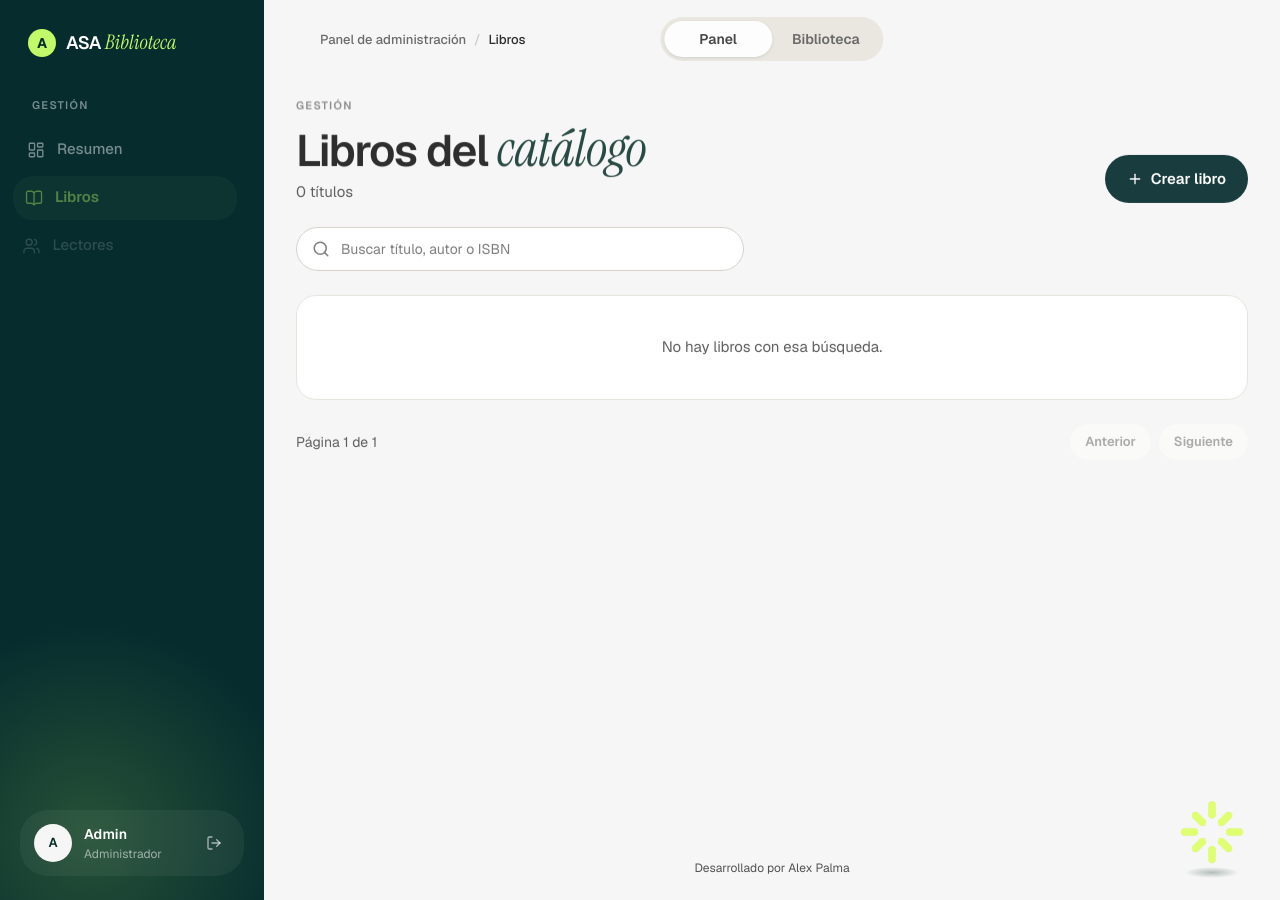
Test: formularios de admin: errores generales › libro: un 500 se muestra como alerta arriba del formulario
Click the button "Crear libro": (1176, 179) x1=1105 y1=155 x2=1248 y2=203
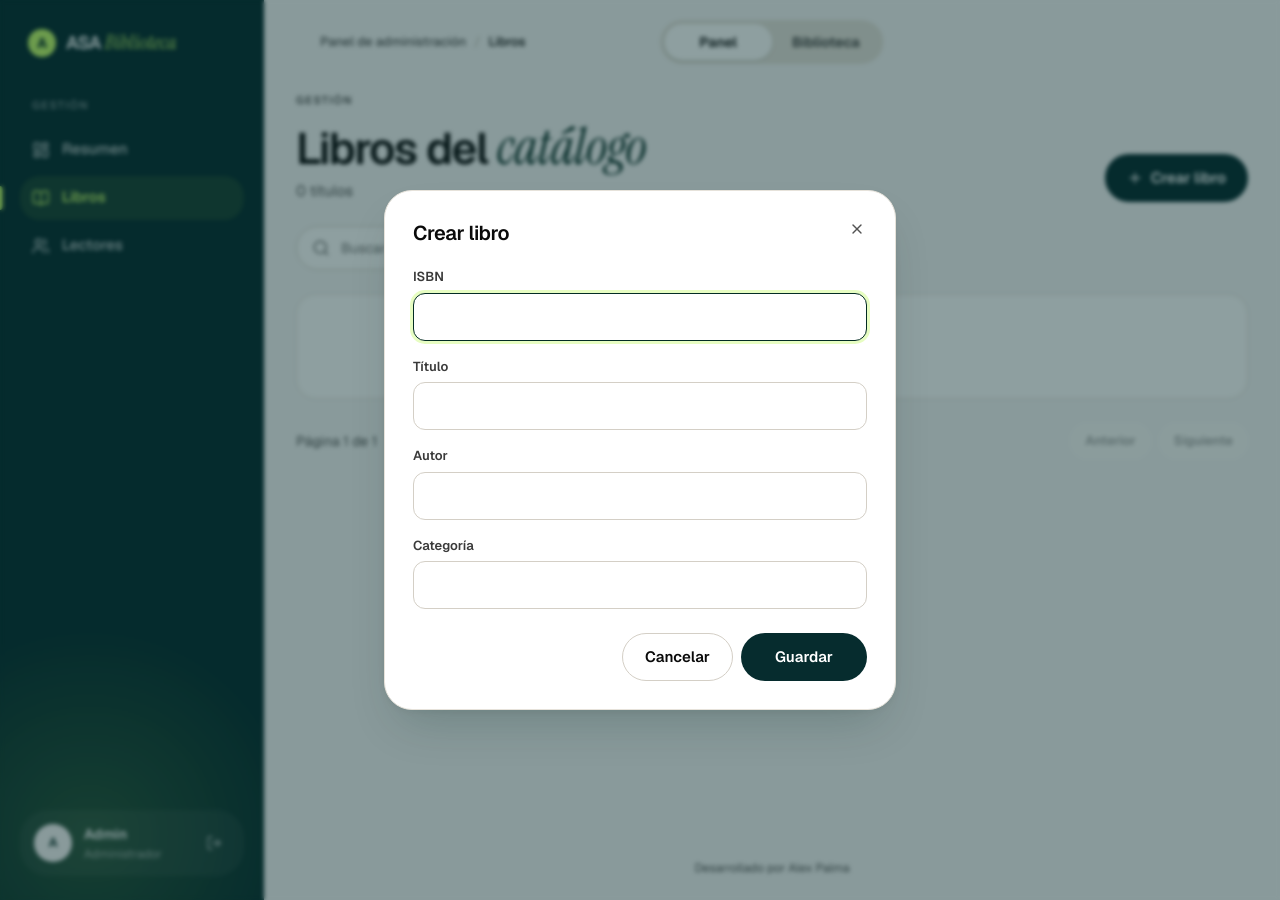
In the field labelled "ISBN": (640, 316) x1=413 y1=292 x2=867 y2=340, type "9780306406157"
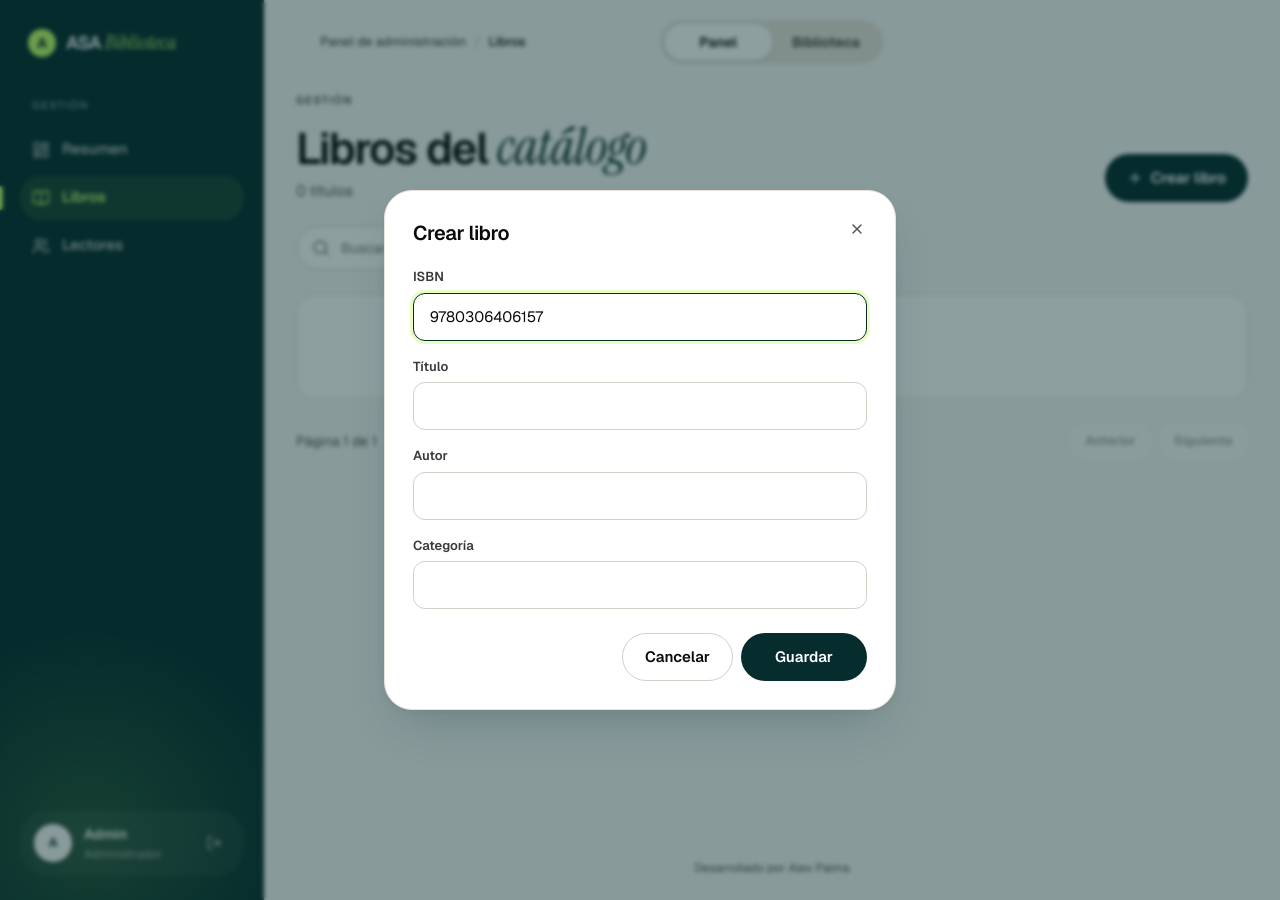
In the field labelled "Título": (640, 406) x1=413 y1=382 x2=867 y2=430, type "Rayuela"
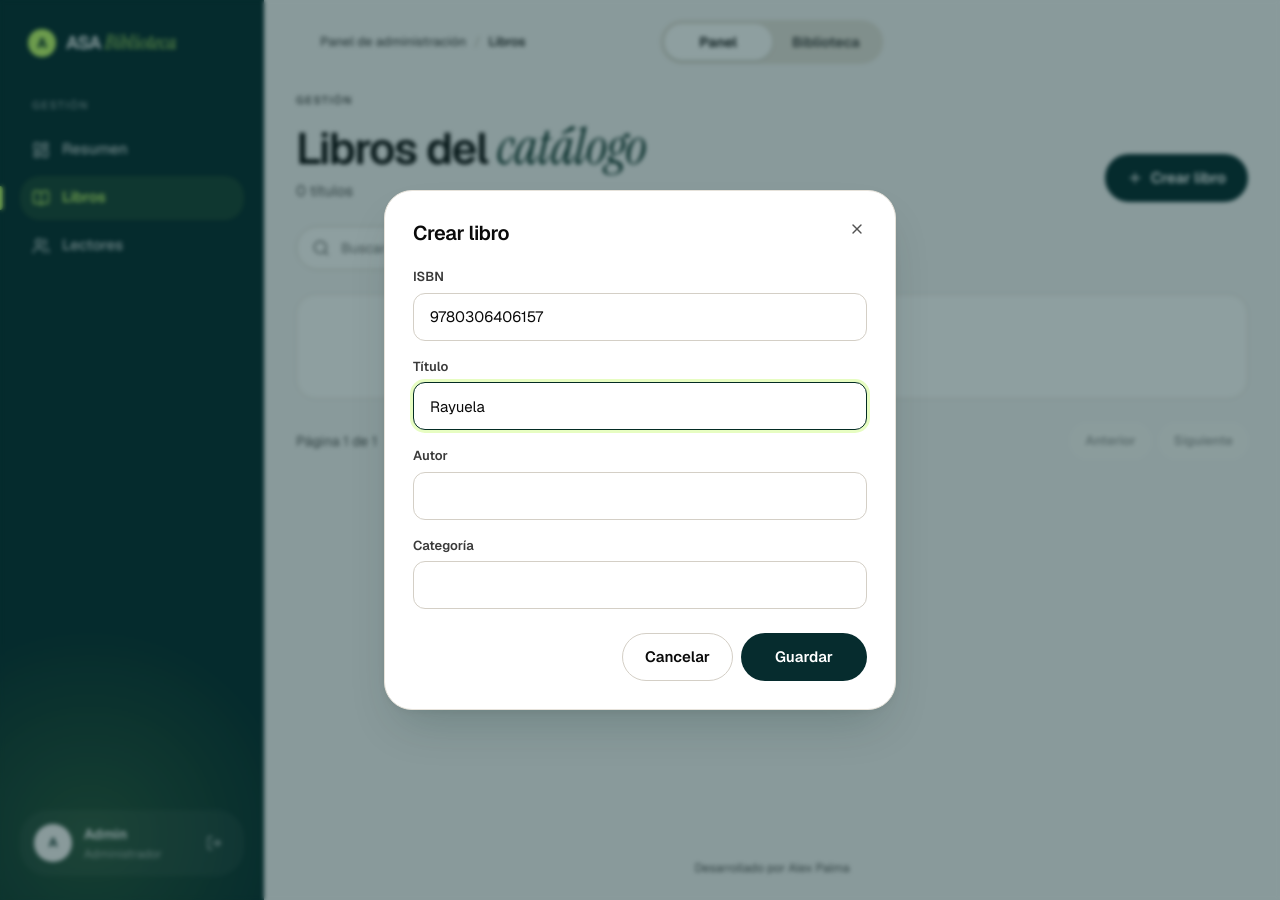
In the field labelled "Autor": (640, 496) x1=413 y1=472 x2=867 y2=520, type "Julio Cortázar"
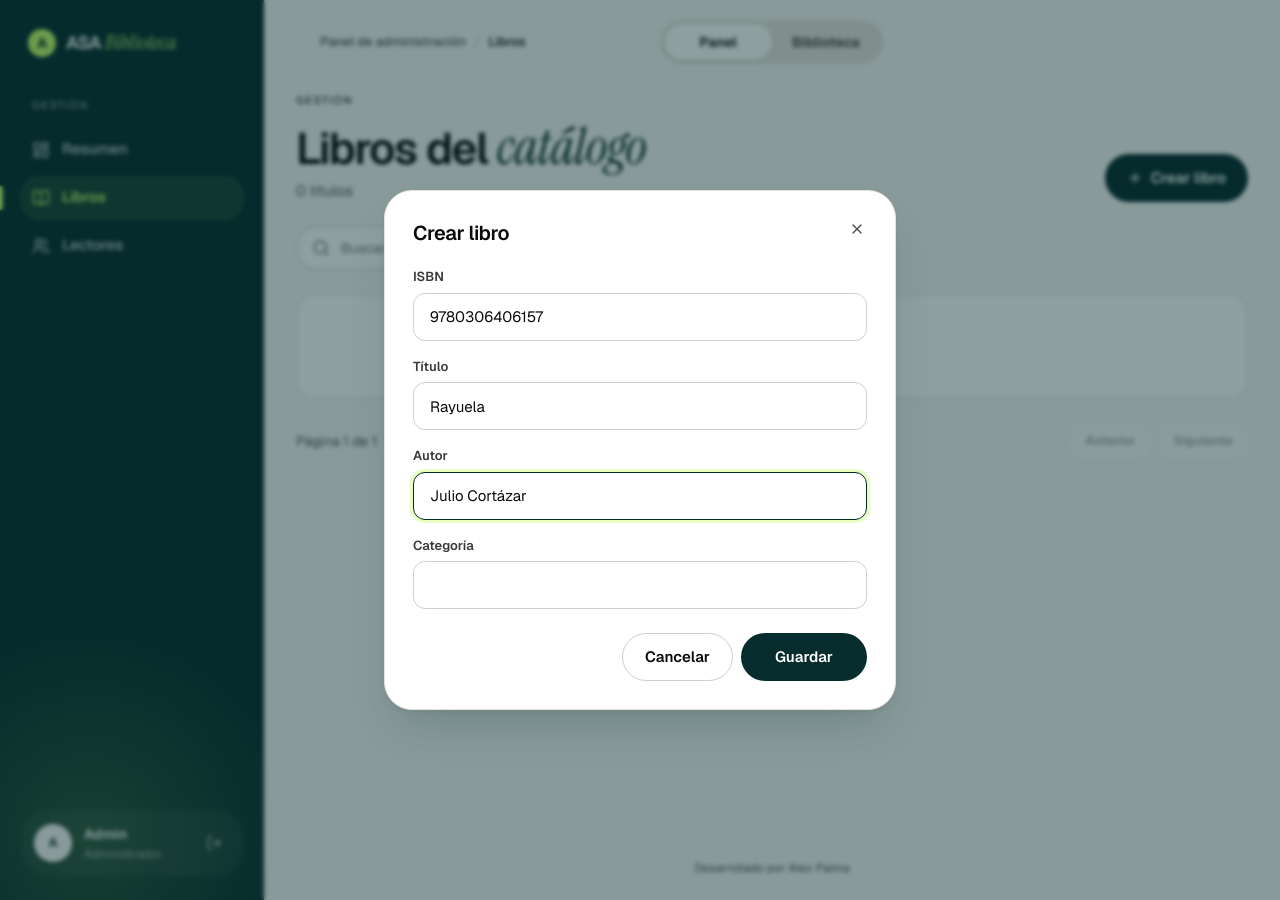
In the field labelled "Categoría": (640, 585) x1=413 y1=561 x2=867 y2=609, type "Novela"
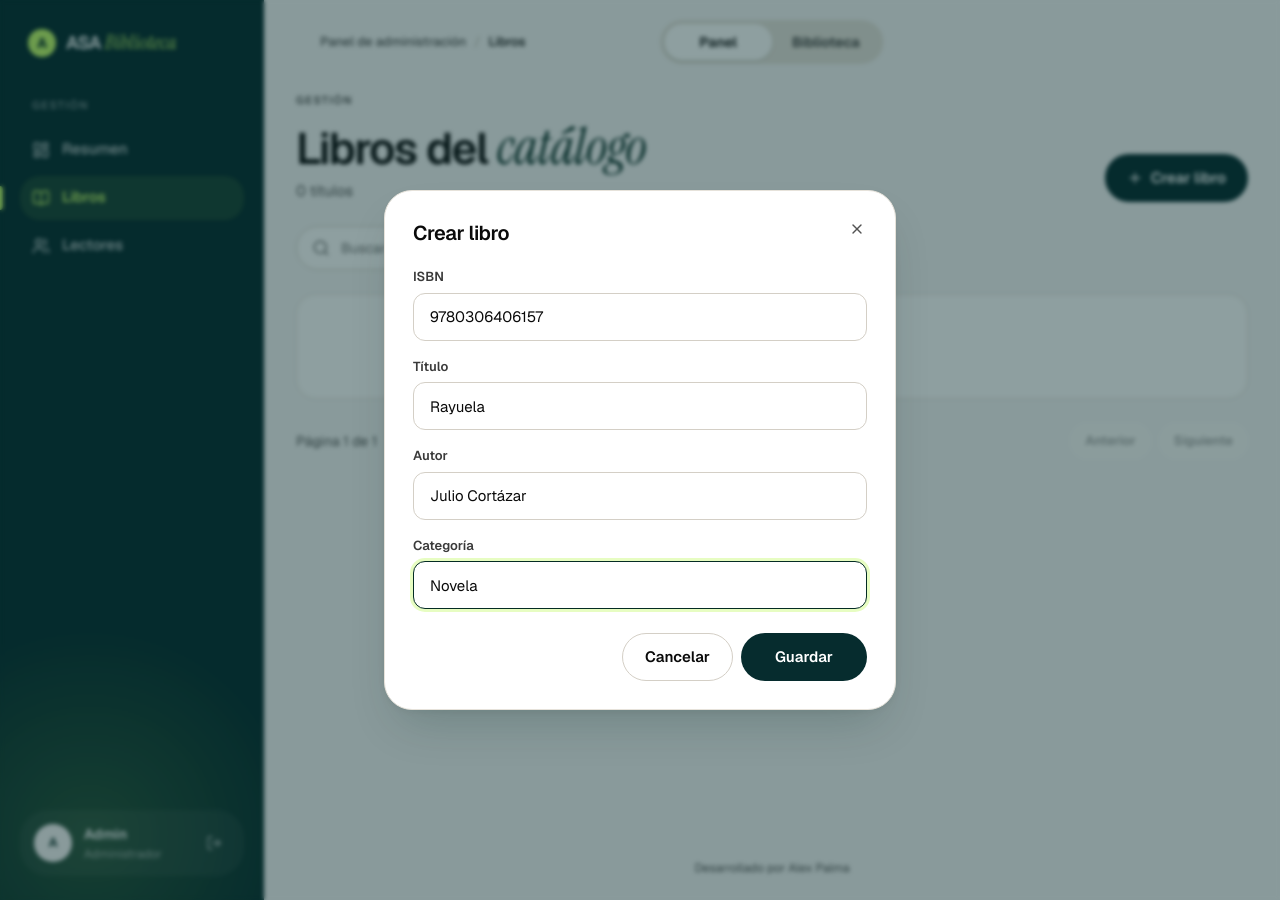
Click the button "Guardar": (804, 657) x1=741 y1=633 x2=867 y2=681
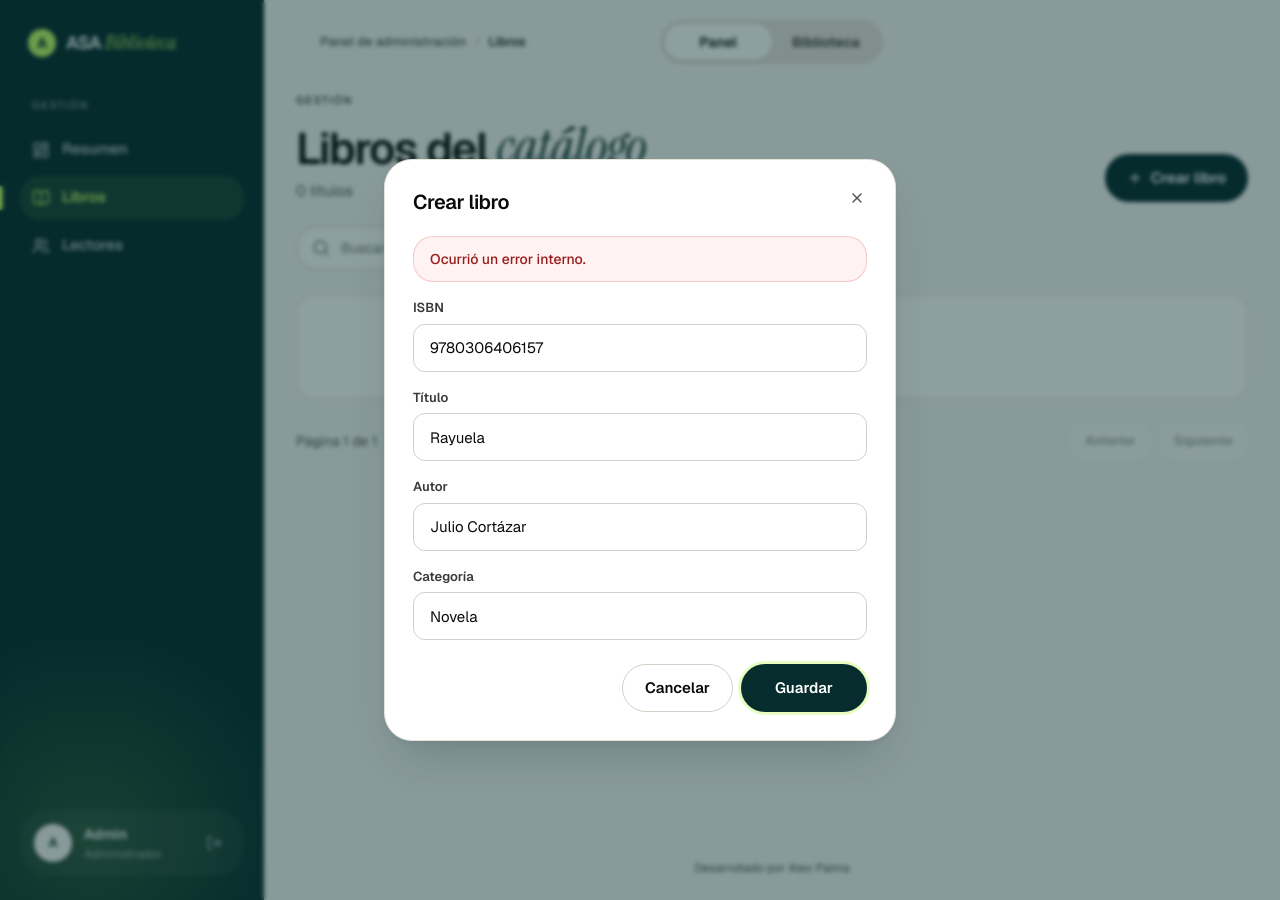
Expected: the message reads "Ocurrió un error interno.", x1=430 y1=250 x2=586 y2=268
